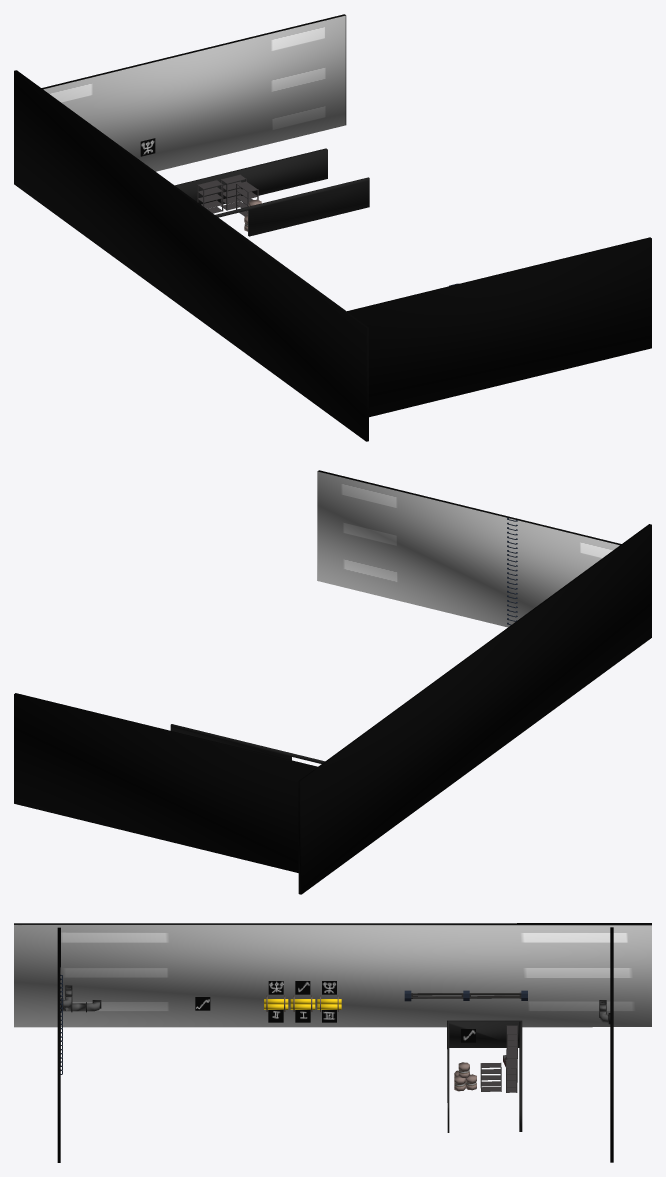
File: Escenario2.obj
The picture shows the model from 3 angles, top to bottom: view 1: azimuth 30°, elevation 25°; view 2: azimuth 150°, elevation 25°; view 3: azimuth 270°, elevation 25°; orthographic projection. The views are drawn at different scales.
Parts seen in each view (by area): view 1: Plane.009; view 2: Plane.009; view 3: Plane.009.
Part boxes in pixels (left/top/right/bottom): Plane.009: left=14, top=14, right=651, bottom=441; Plane.009: left=14, top=470, right=651, bottom=894; Plane.009: left=14, top=923, right=651, bottom=1162.
Size of the model in its own units: 23.89 by 8.37 by 46.97.
